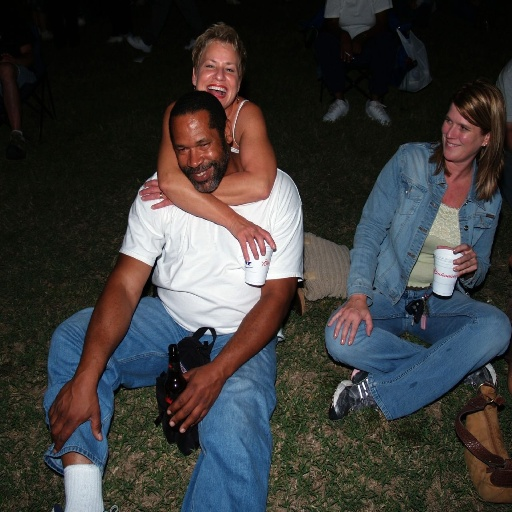hand: (165, 358, 224, 435), (47, 377, 102, 454), (227, 213, 276, 262), (327, 295, 373, 345), (436, 243, 477, 277), (138, 178, 174, 209), (339, 39, 355, 64)
